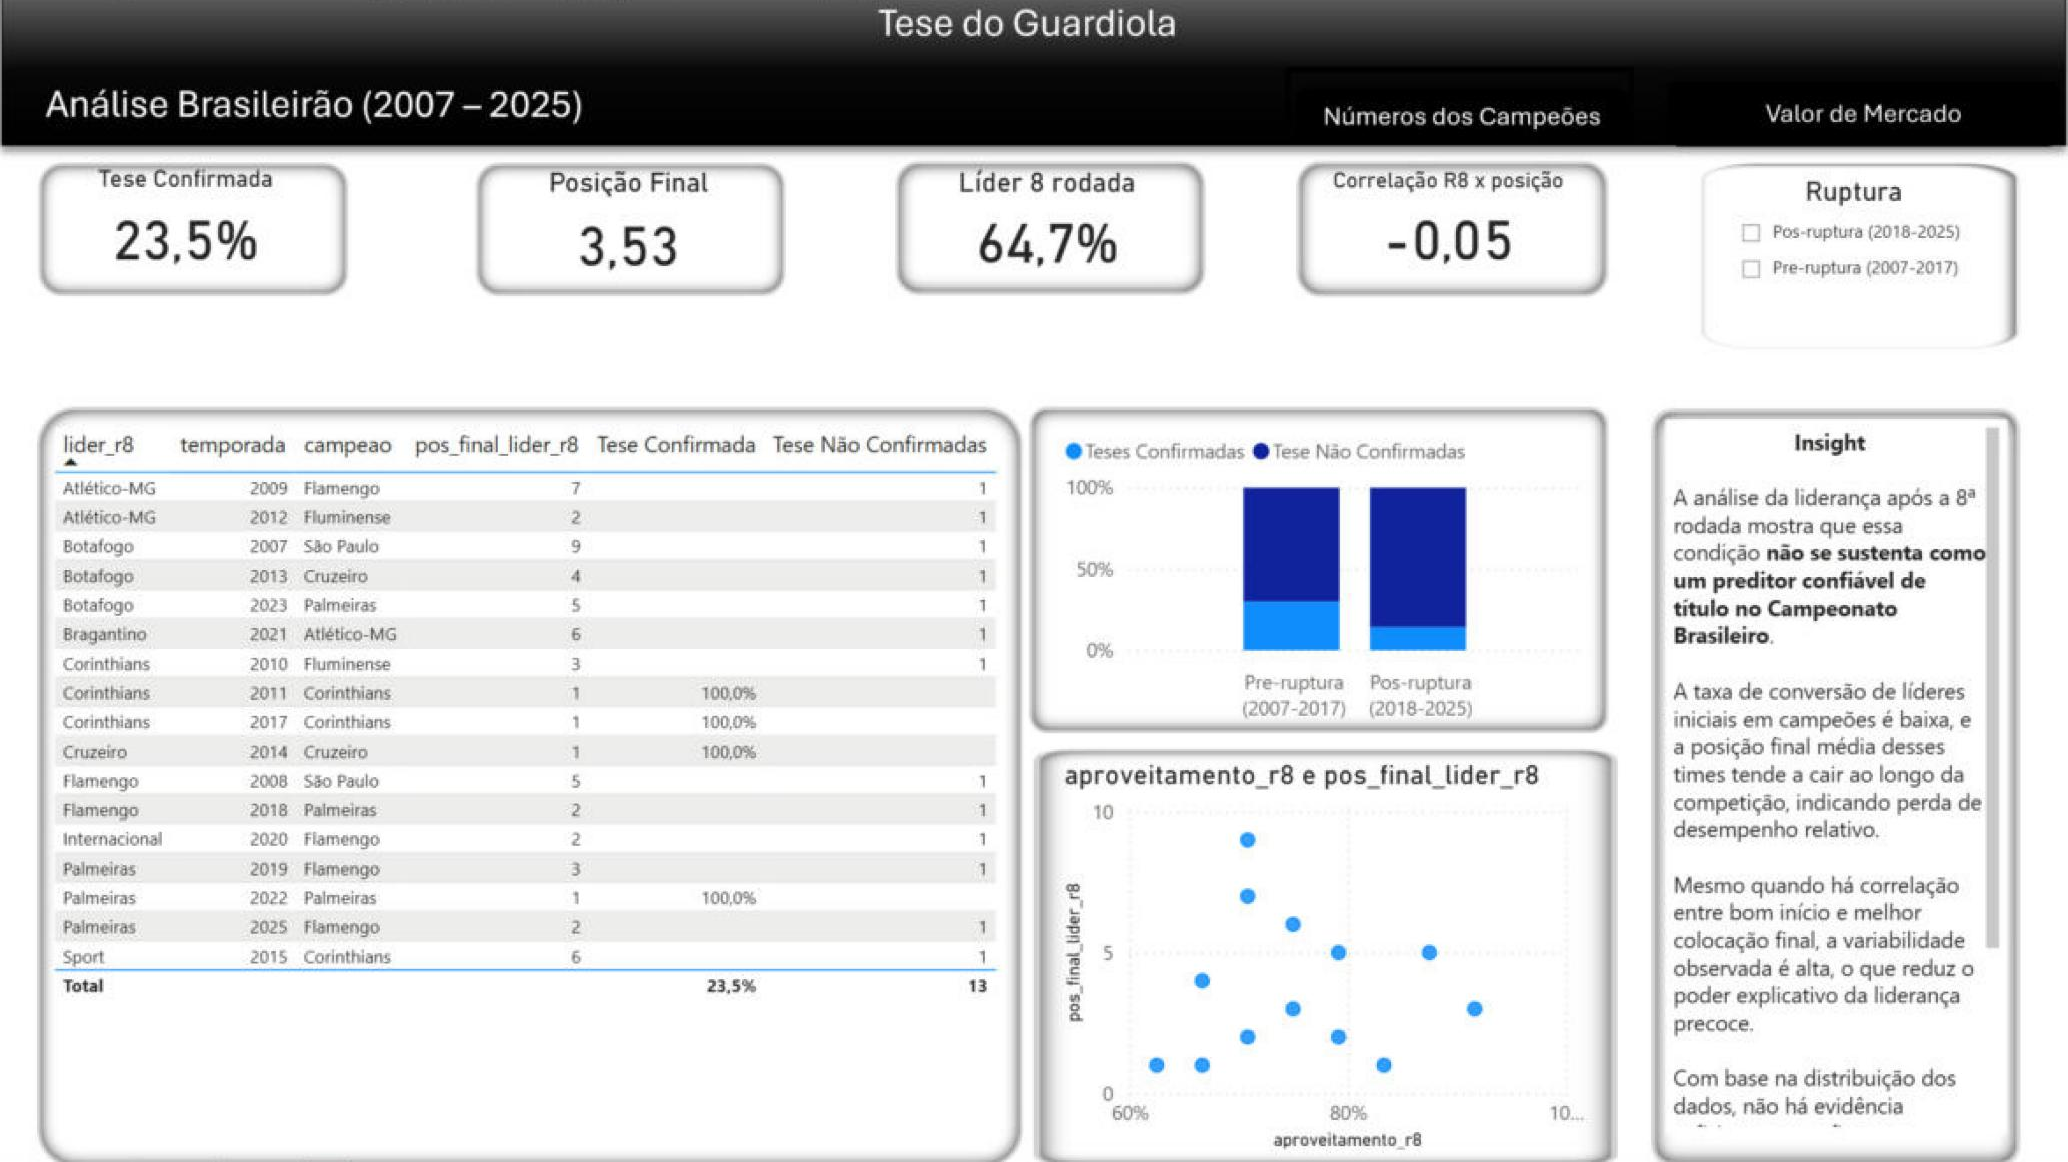

The dashboard page shown, as its layout file describes it:
{"tool":"powerbi","page":{"name":"Página 3","canvas":[1280,720],"ordinal":2},"visuals":[{"type":"card","title":"Tese Confirmada","fields":{"Values":["tese_r8_guardiola2.Teses Confirmada"]},"box":[45.5,105.7,146.8,70.6],"z":0},{"type":"card","title":"Posição Final","fields":{"Values":["tese_r8_guardiola2.Posição Final Média"]},"box":[301,105.7,180,74.9],"z":1000},{"type":"card","title":"Líder 8 rodada","fields":{"Values":["tese_r8_guardiola2.Líder R8 no Top 4"]},"box":[563.3,105.7,169.6,70.6],"z":2000},{"type":"card","title":"Correlação R8 x posição","fields":{"Values":["tese_r8_guardiola2.Pearson Aprov R8 vs Posição Final"]},"box":[809.7,106.9,169.6,68.2],"z":3000},{"type":"scatterChart","fields":{"X":["tese_r8_guardiola2.aproveitamento_r8"],"Y":["tese_r8_guardiola2.pos_final_lider_r8"]},"box":[653.7,470,329.9,245.1],"z":4000},{"type":"hundredPercentStackedColumnChart","fields":{"Category":["tese_r8_guardiola2.periodo"],"Y":["tese_r8_guardiola2.Teses Confirmadas","tese_r8_guardiola2.Teses Não Confirmadas"]},"box":[653.7,261.7,329.9,192.9],"z":5000},{"type":"slicer","title":"Ruptura","fields":{"Values":["tese_r8_guardiola2.periodo"]},"box":[1062.1,111.2,162.9,96.2],"z":6000},{"type":"tableEx","fields":{"Values":["tese_r8_guardiola2.lider_r8","tese_r8_guardiola2.temporada","tese_r8_guardiola2.campeao","tese_r8_guardiola2.pos_final_lider_r8","tese_r8_guardiola2.Teses Confirmada","tese_r8_guardiola2.Teses Não Confirmadas"]},"box":[32.6,261.7,607.6,453.4],"z":7000},{"type":"actionButton","box":[794.3,44.8,214.4,43.6],"z":8000},{"type":"actionButton","box":[1032.7,48.5,231,39.9],"z":9000},{"type":"textbox","box":[1027.8,261.7,210.1,439.9],"z":10000}]}

Visuals, with their boxes in screenshot pixels (x1, y1, x2, y2), scaled from the page's 1280x720 canvas onto the 2068x1162 screenshot:
"Tese Confirmada" card: (74, 171, 311, 285)
"Posição Final" card: (486, 171, 777, 291)
"Líder 8 rodada" card: (910, 171, 1184, 285)
"Correlação R8 x posição" card: (1308, 173, 1582, 283)
scatterChart - tese_r8_guardiola2.aproveitamento_r8 x tese_r8_guardiola2.pos_final_lider_r8: (1056, 759, 1589, 1154)
hundredPercentStackedColumnChart - tese_r8_guardiola2.periodo x tese_r8_guardiola2.Teses Confirmadas: (1056, 422, 1589, 734)
"Ruptura" slicer: (1716, 179, 1979, 335)
tableEx - tese_r8_guardiola2.lider_r8 x tese_r8_guardiola2.temporada: (53, 422, 1034, 1154)
actionButton: (1283, 72, 1630, 143)
actionButton: (1668, 78, 2042, 143)
textbox: (1661, 422, 2000, 1132)
